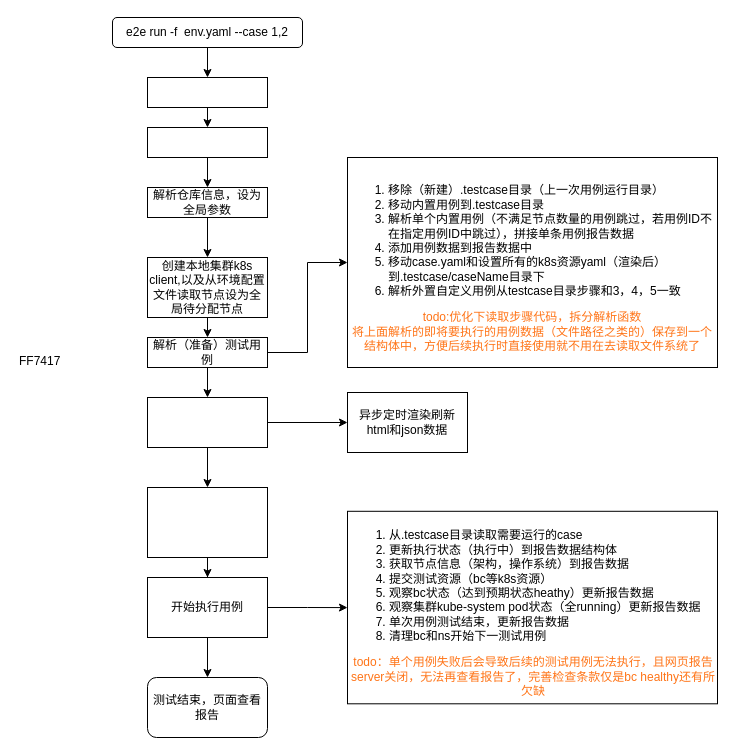
Some shapes in this 735 by 755 pixel diagram are drawn without their labels. Here are the shapes that lost their labels. From the top down, the centre of each, then its label:
point 207,92: 读取环境配置文件
point 207,142: 验证环境配置文件
point 207,422: 渲染报告html，输出报告json数据到/bke2e/report目录
point 207,522: 启动报告server todo:e2e run 启动参数自定义server端口
